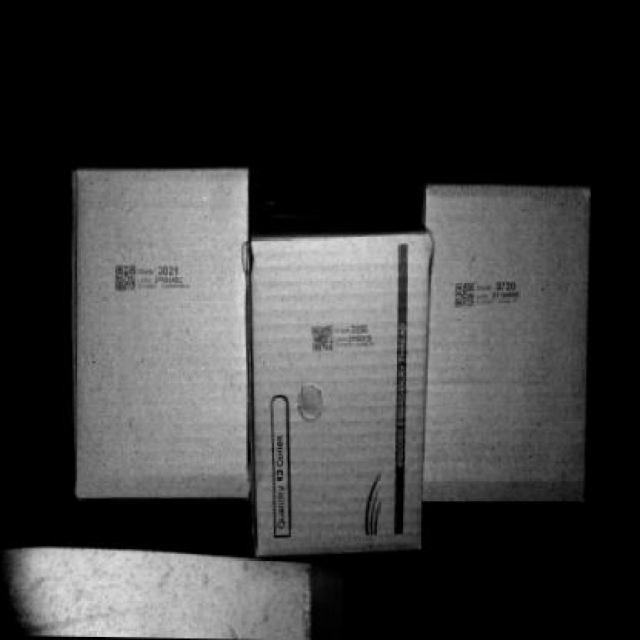cardboxes: (71, 160, 255, 495), (249, 238, 425, 551), (423, 190, 589, 498)
